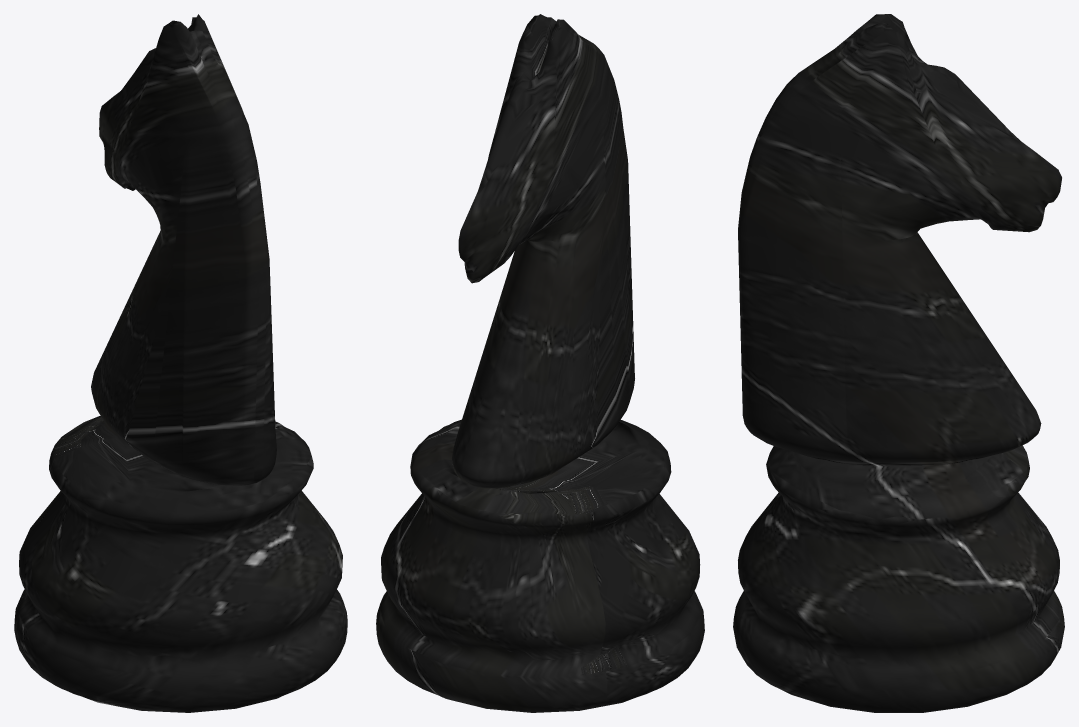
File: black_knight.glb
The picture shows the model from 3 angles, left to right: view 1: azimuth 30°, elevation 25°; view 2: azimuth 150°, elevation 25°; view 3: azimuth 270°, elevation 25°; orthographic projection.
Parts seen in each view (by area): view 1: Circle.006; view 2: Circle.006; view 3: Circle.006.
Boxes of the visible parts, x1=… form: Circle.006: x1=14, y1=14, x2=347, y2=712; Circle.006: x1=376, y1=14, x2=704, y2=712; Circle.006: x1=733, y1=14, x2=1064, y2=712.
Bounding box in the file's own units: 1.33 × 2.8 × 1.33.
Materials: 1 (1 with a texture image).
